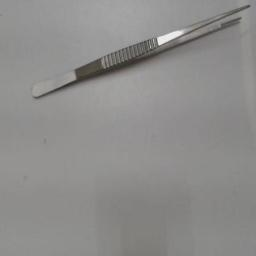DeBakey Dissector: (14, 1, 254, 131)
